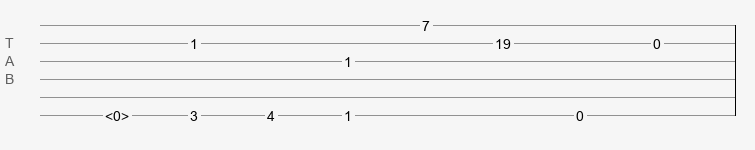0: (576, 108, 584, 118), (653, 36, 661, 46)
1: (190, 36, 198, 46), (344, 108, 352, 118), (344, 54, 352, 64)
19: (495, 36, 511, 46)
3: (190, 108, 198, 118)
4: (267, 108, 275, 118)
7: (422, 18, 430, 28)
harmonic: (105, 108, 129, 118)
